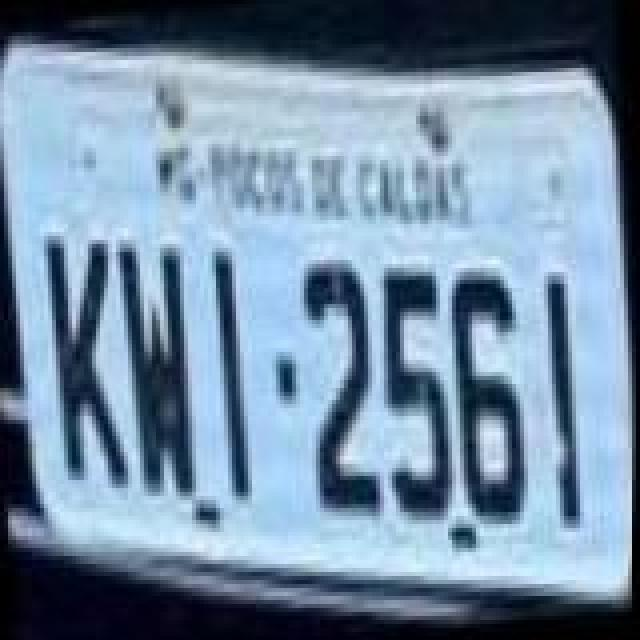1: (540, 272, 592, 544), (206, 244, 258, 508)
2: (296, 254, 388, 526)
5: (372, 264, 464, 528)
6: (448, 260, 540, 528)
K: (42, 228, 134, 500)
W: (110, 232, 202, 508)
